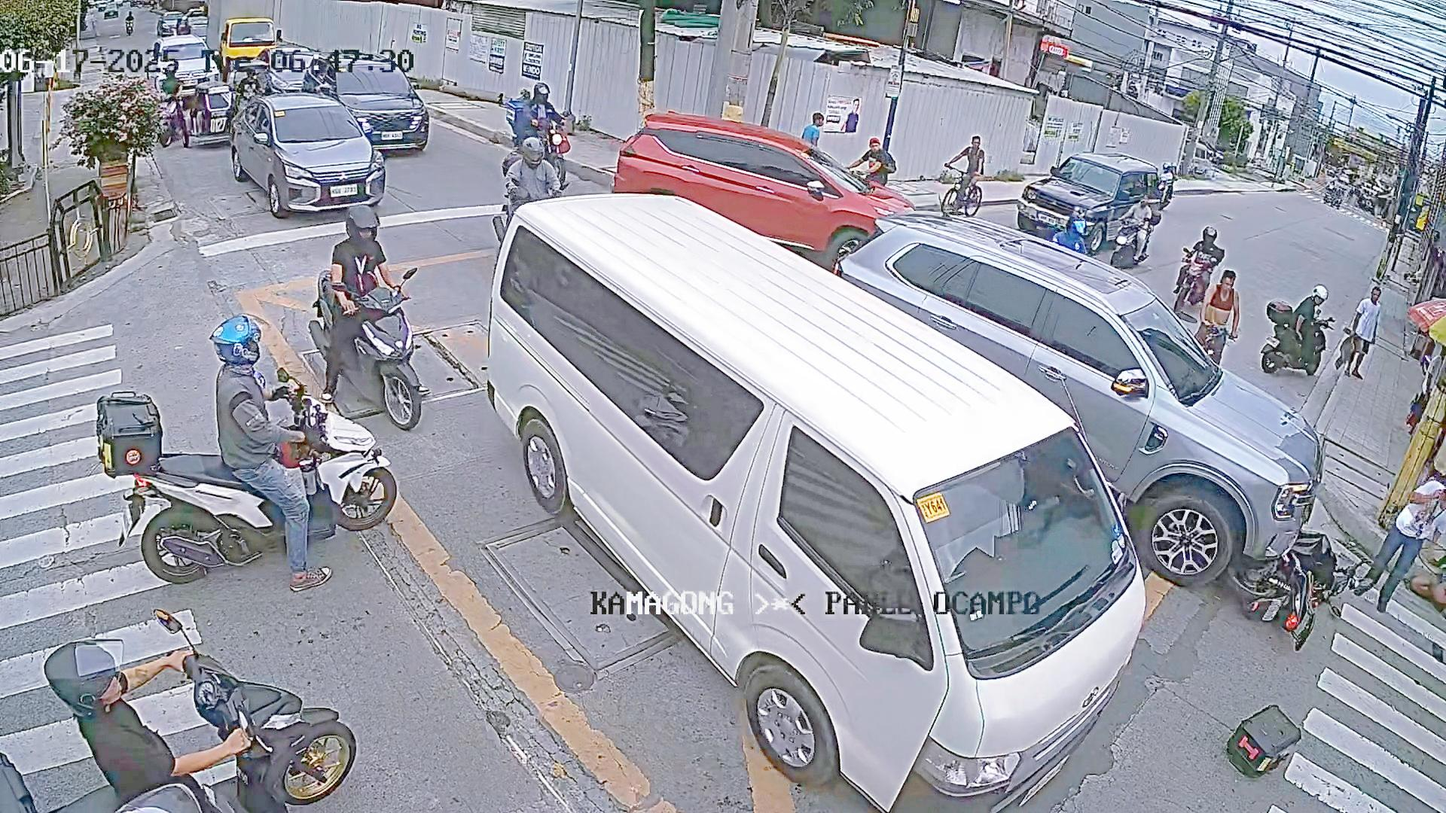Car: (476, 183, 1148, 801), (822, 213, 1295, 560), (619, 109, 960, 269), (209, 95, 411, 202), (291, 47, 458, 149), (1020, 155, 1169, 228)
Minor Accident: (831, 215, 1362, 651)
Motor: (11, 592, 384, 813), (53, 346, 402, 548), (307, 217, 440, 426), (1237, 517, 1350, 643), (490, 68, 596, 197), (470, 146, 581, 246), (1264, 282, 1318, 388), (1172, 221, 1218, 314), (1110, 204, 1158, 268)
